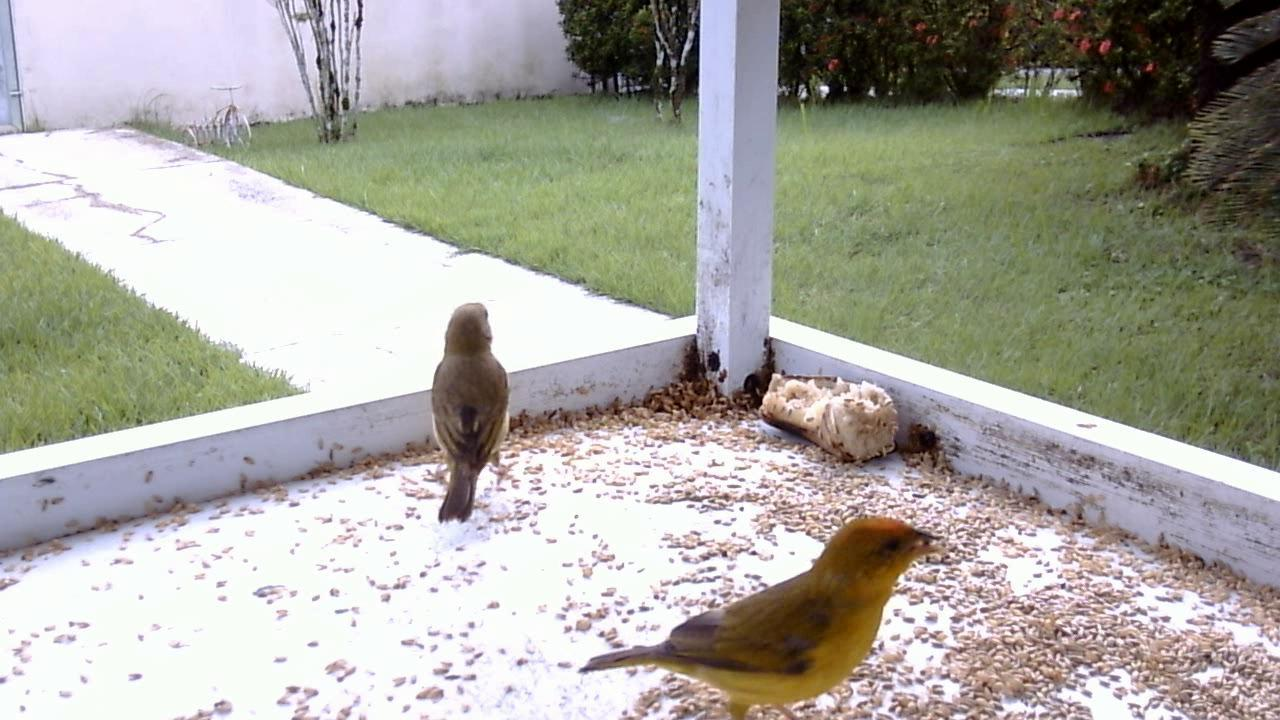canario_do_amazonas: (570, 510, 955, 720), (424, 297, 513, 532)
